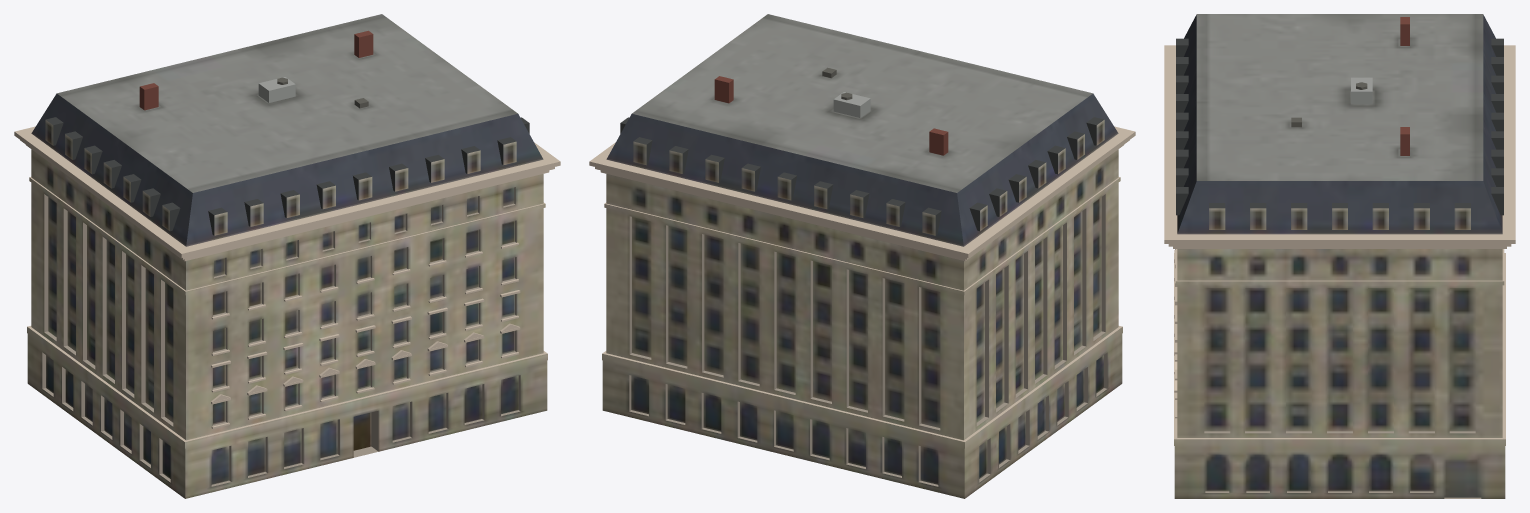
Rendered from dc_beaux_a.glb.
3 views of the same model, side by side, from view 1: azimuth 30°, elevation 25°; view 2: azimuth 150°, elevation 25°; view 3: azimuth 270°, elevation 25° (orthographic). The views are drawn at different scales.
Parts seen in each view (by area): view 1: dc_beaux_a; view 2: dc_beaux_a; view 3: dc_beaux_a.
Boxes of the visible parts, left/top/right/bottom form: dc_beaux_a: left=14, top=14, right=560, bottom=498; dc_beaux_a: left=589, top=14, right=1135, bottom=498; dc_beaux_a: left=1164, top=14, right=1515, bottom=498.
Size of the model in its own units: 42.4 by 33.6 by 32.4.
1 material, 1 textured.
